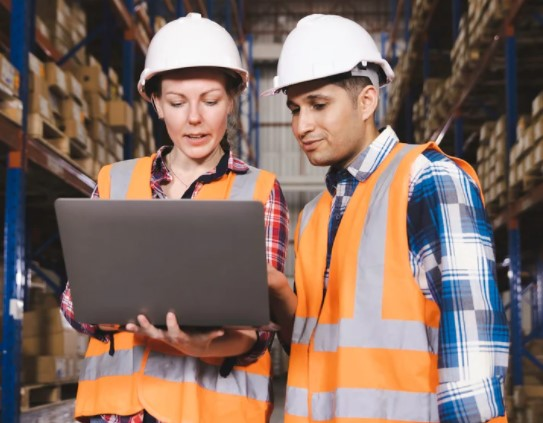worker: (74, 16, 272, 423), (272, 13, 445, 421)
